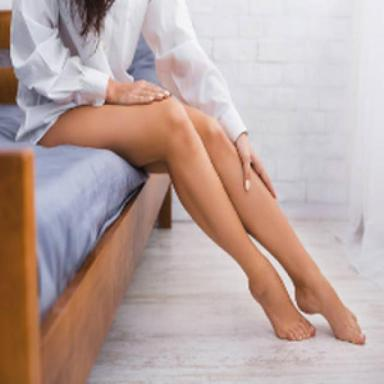normal skin: (40, 79, 364, 343)
